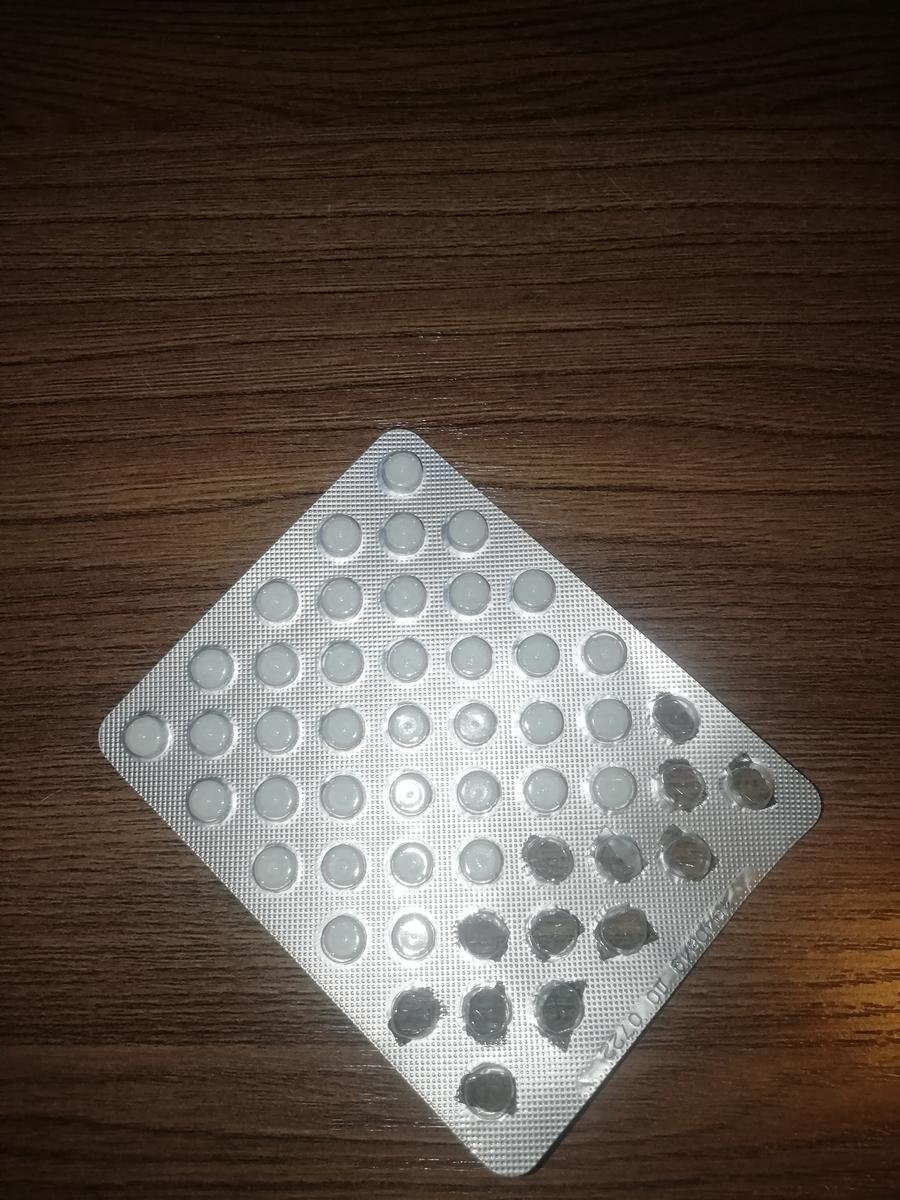tablet: (318, 704, 365, 751), (380, 705, 427, 752), (453, 699, 500, 746), (517, 698, 564, 745), (584, 695, 631, 742), (590, 761, 637, 808), (526, 764, 573, 811), (453, 763, 500, 810), (381, 774, 428, 821), (317, 771, 364, 818), (253, 774, 300, 821), (187, 775, 234, 822), (252, 840, 299, 887), (317, 843, 364, 890), (386, 837, 433, 884), (459, 841, 506, 888), (384, 915, 431, 962), (317, 915, 364, 962), (380, 453, 426, 494), (443, 509, 489, 550), (380, 512, 426, 553), (313, 516, 359, 557), (252, 578, 298, 619), (318, 582, 364, 623), (379, 573, 425, 614), (448, 573, 494, 614), (512, 571, 558, 612), (578, 629, 624, 670), (513, 631, 559, 672), (453, 636, 499, 677), (379, 635, 425, 676), (315, 640, 361, 681), (253, 638, 299, 679), (183, 643, 229, 684), (120, 711, 166, 752), (185, 711, 231, 752), (252, 708, 298, 749)
